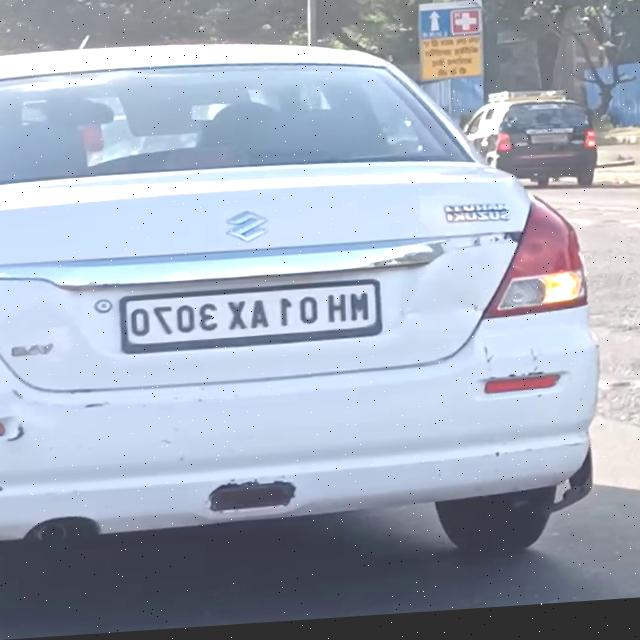plate: (116, 279, 386, 362)
